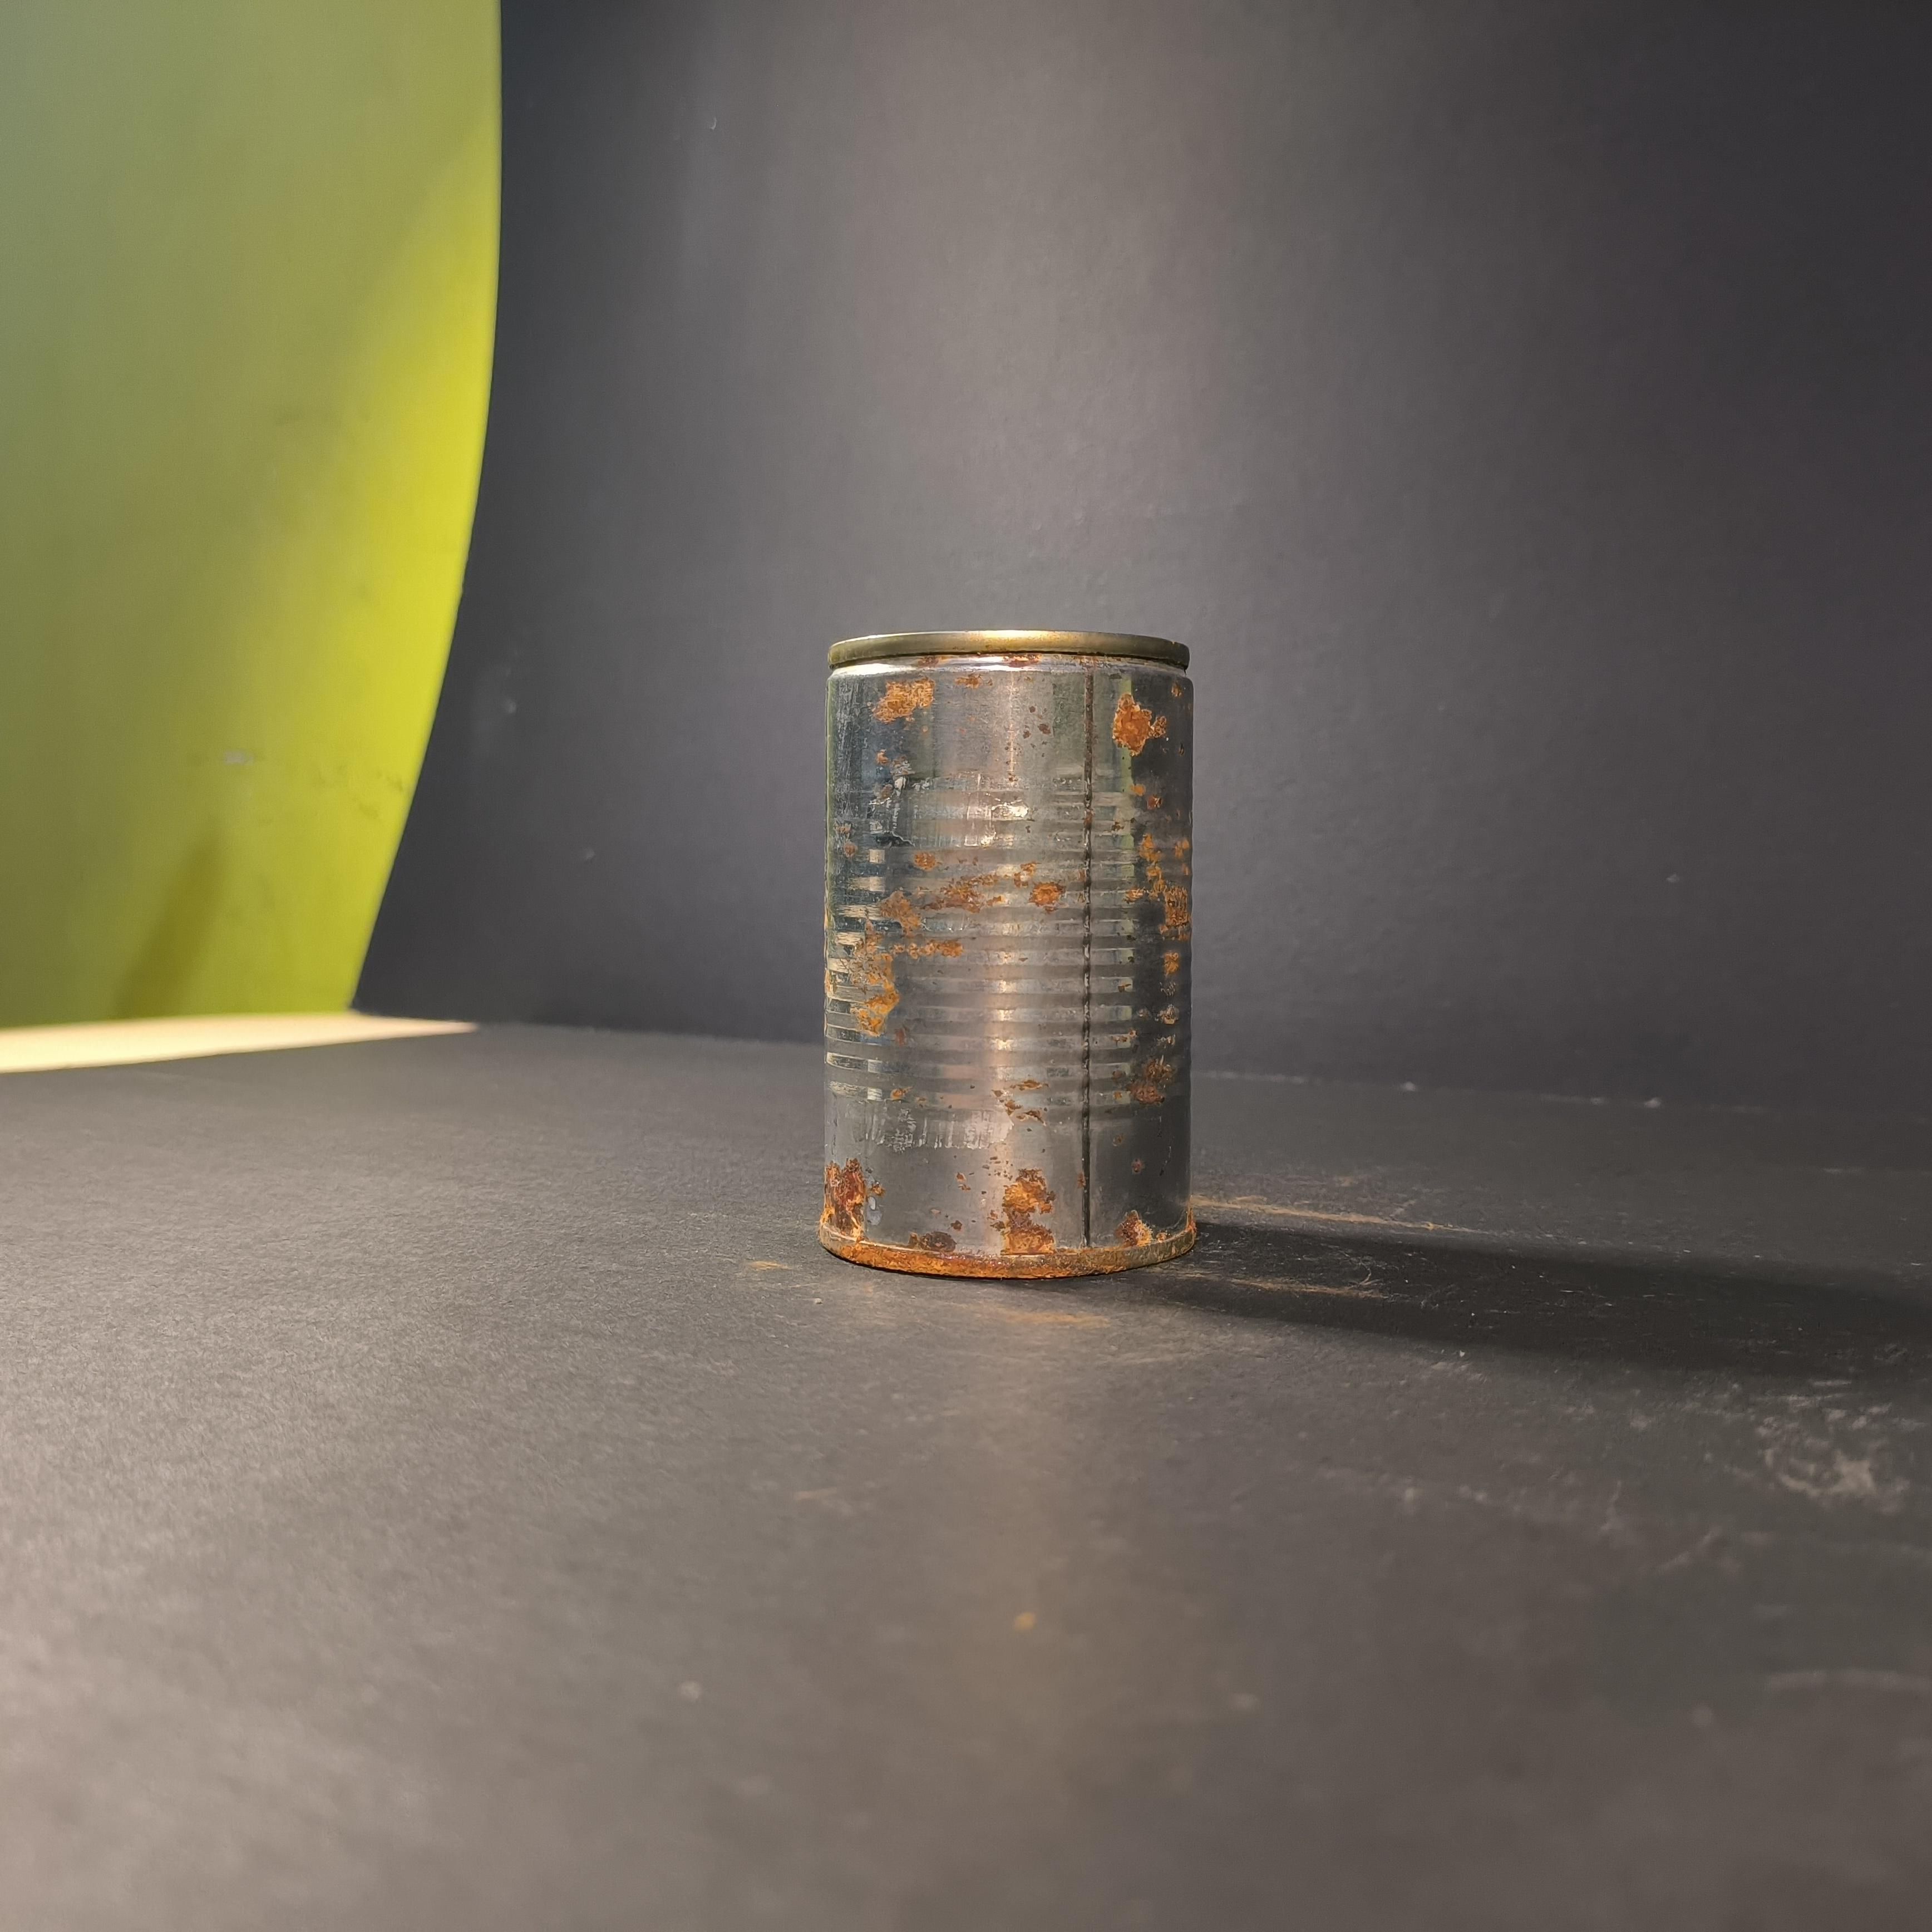Rusted: (791, 602, 1238, 1302)
